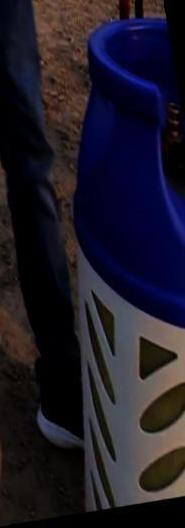cylinder: (0, 1, 185, 528)
